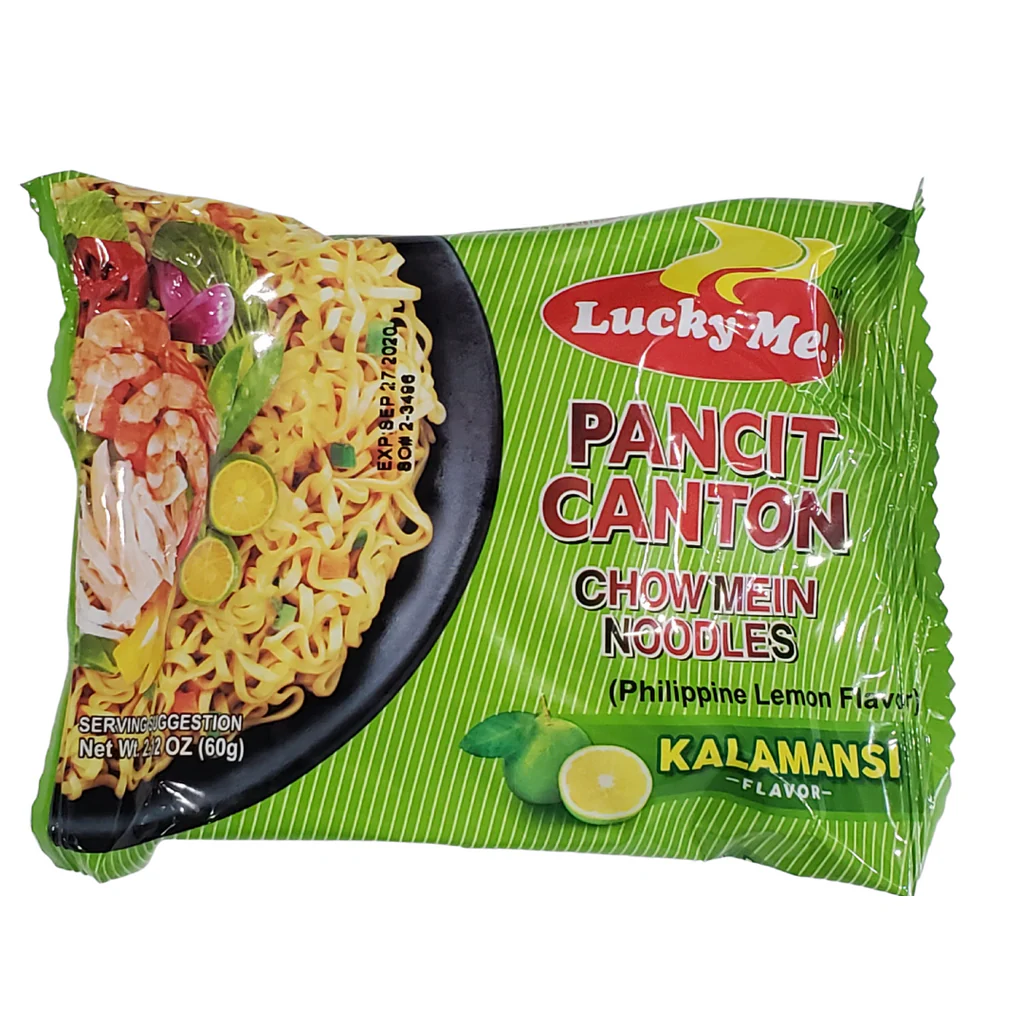non-toxic_waste: (73, 201, 898, 851)
